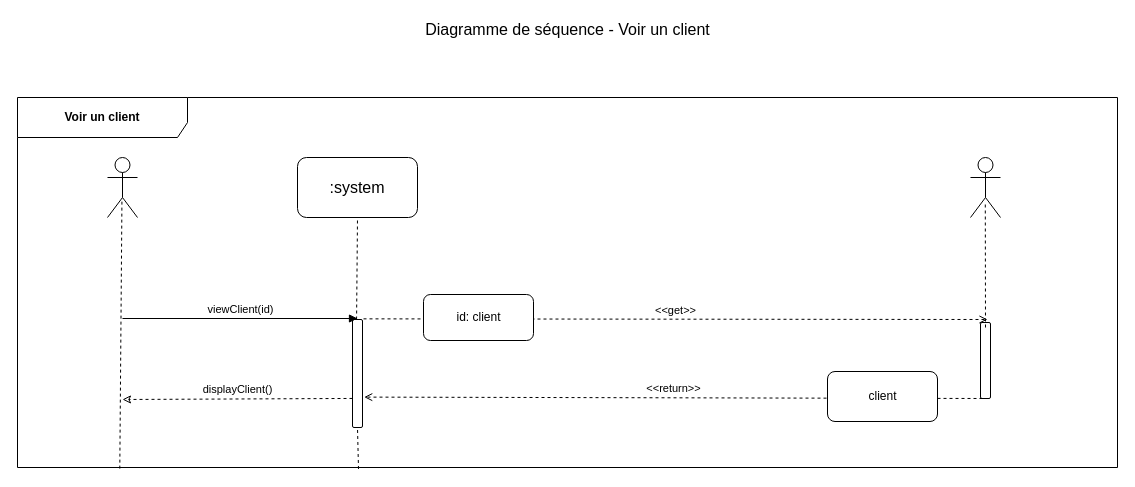
This 1135x487 diagram has some shape labels left out. The shapes that lost their labels are listed below. From the top down, each one's box as (x1, y1, x2, y2) in pixels, then its label:
(106, 156, 138, 218): :utilisateur
(970, 156, 1000, 218): :bdd
